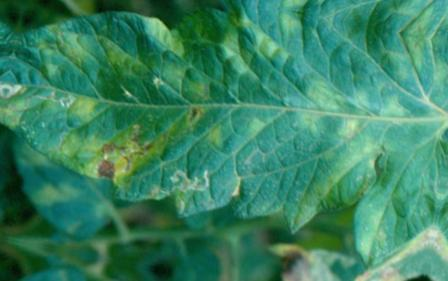Tomato mold leaf: (0, 0, 448, 274)
